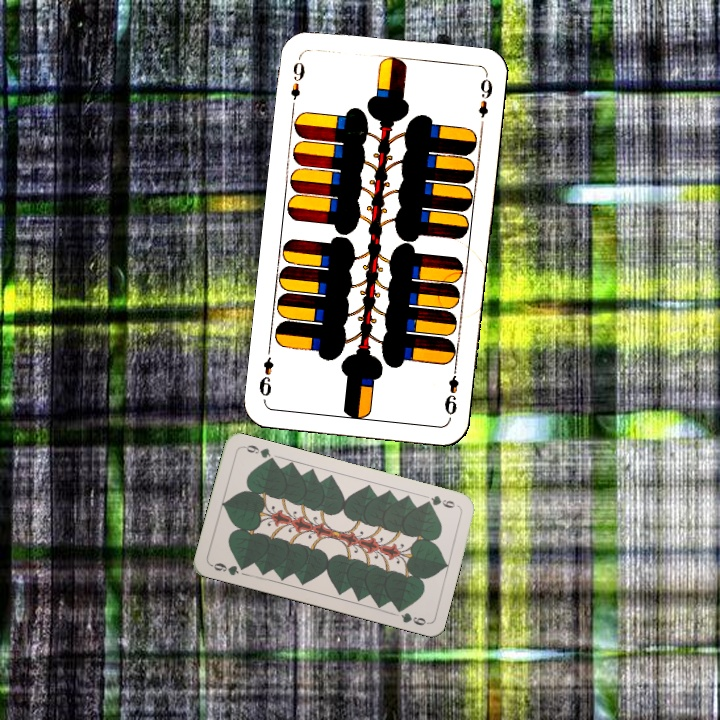E9: (440, 361, 461, 420), (287, 53, 308, 112)
G9: (207, 559, 249, 578), (421, 491, 458, 511)
